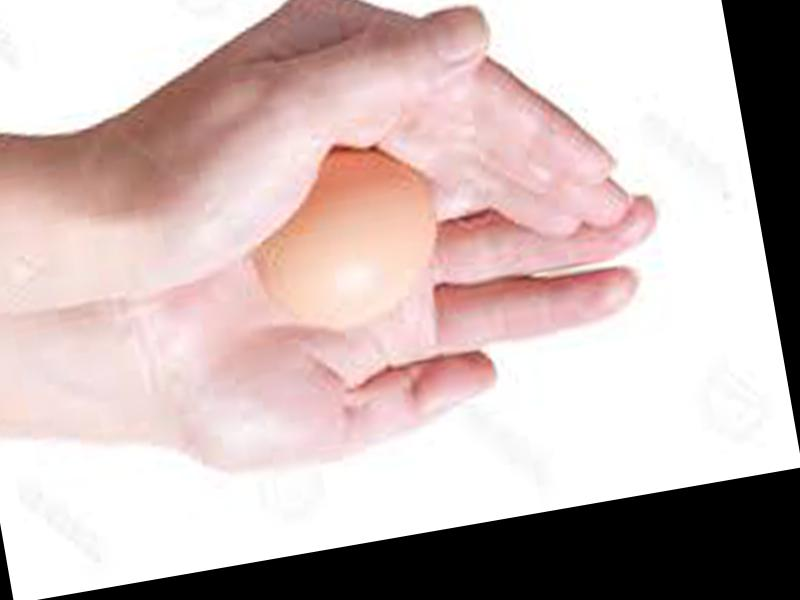Eggs: (249, 140, 449, 331)
